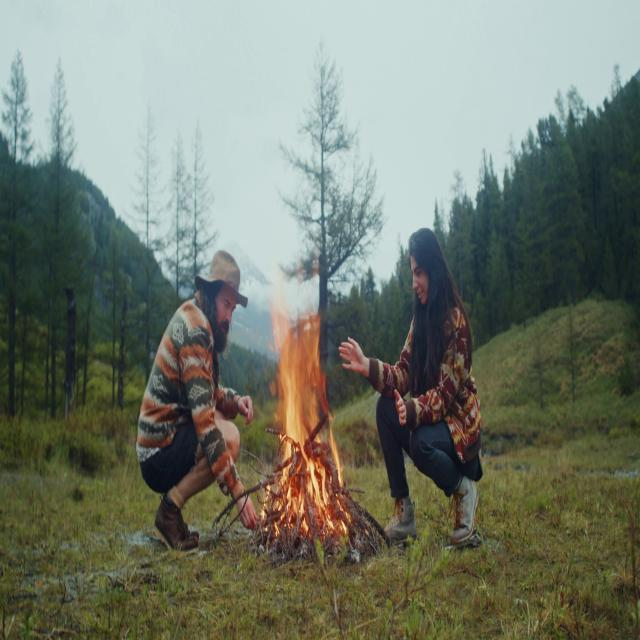Fire: (256, 286, 352, 542)
